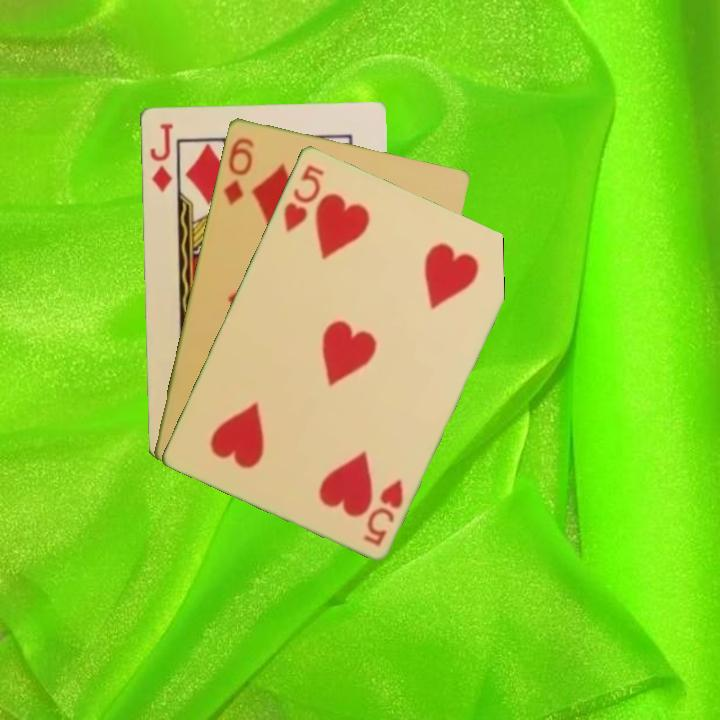5h: (280, 161, 327, 235), (360, 475, 406, 549)
6d: (219, 133, 258, 208)
Jd: (146, 119, 175, 195)
